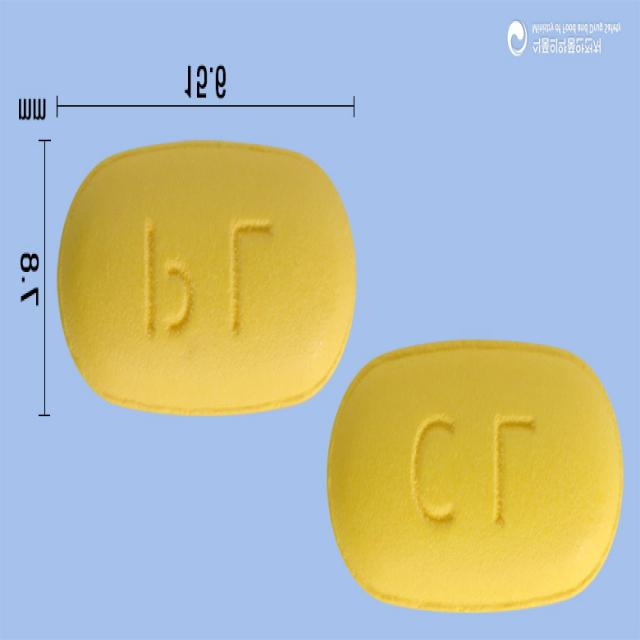Cefixime Cap- Nelson: (57, 140, 357, 418), (326, 343, 624, 612)
